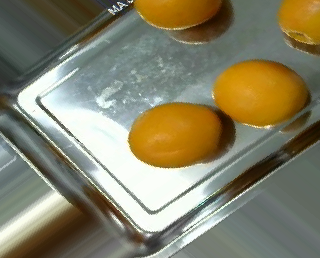Orange: (213, 59, 309, 126), (128, 102, 222, 168)
